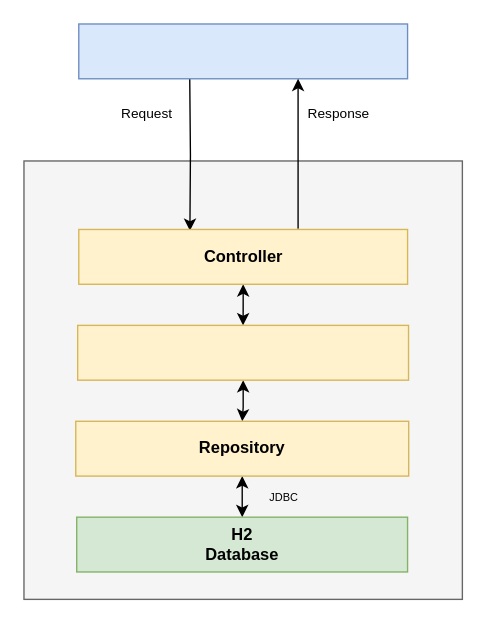
This 486x623 diagram has some shape labels left out. Here are the shapes that lost their labels. From the top down, the centre of each, then its label:
At [242,51]: "Browser".
At [242,352]: "Service".
